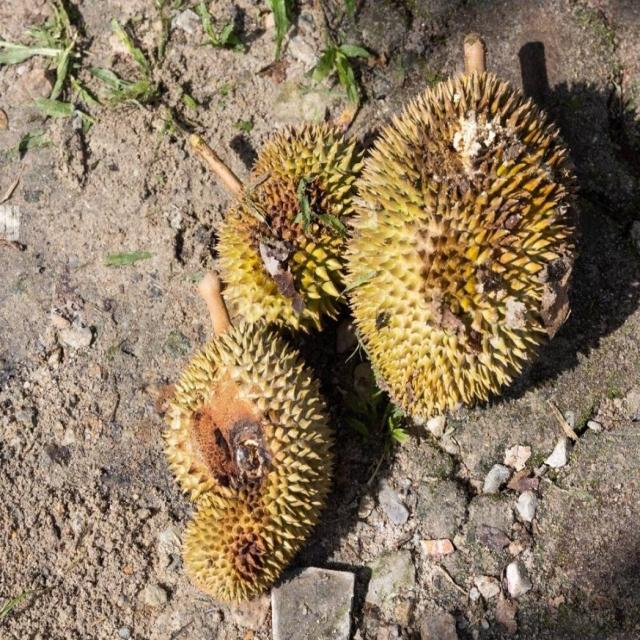defective: (345, 76, 586, 419), (162, 324, 333, 605), (213, 116, 372, 341)
